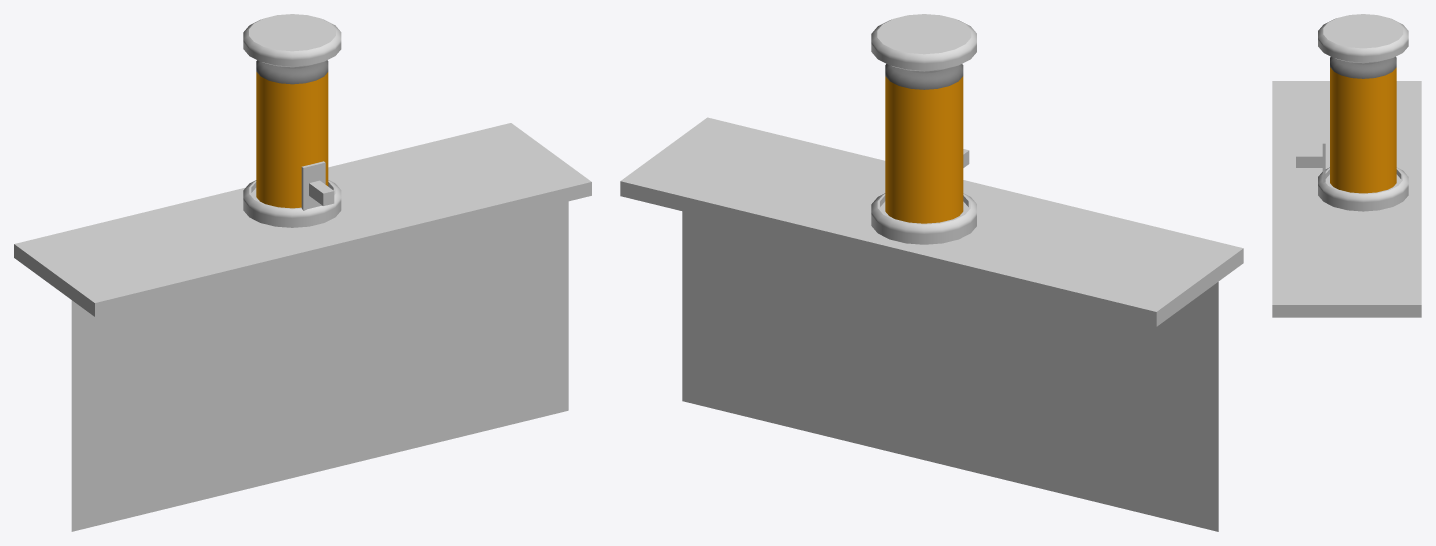
Rendered from razlivayka_test.fbx.
3 views of the same model, side by side, from view 1: azimuth 30°, elevation 25°; view 2: azimuth 150°, elevation 25°; view 3: azimuth 270°, elevation 25° (orthographic). The views are drawn at different scales.
Visible parts, largest first — view 1: Box001, Object002, Cylinder001; view 2: Box001, Object002, Cylinder001; view 3: Box001, Object002, Cylinder001.
Part boxes in pixels (x1,y1,x2,y2): Box001: (14, 123, 591, 531); Object002: (256, 60, 328, 208); Cylinder001: (243, 14, 341, 227); Box001: (620, 117, 1243, 531); Object002: (885, 64, 963, 223); Cylinder001: (871, 14, 976, 244); Box001: (1272, 81, 1421, 317); Object002: (1330, 56, 1396, 193); Cylinder001: (1296, 14, 1408, 211).
Size of the model in its own units: 26924 by 21752 by 7576.
